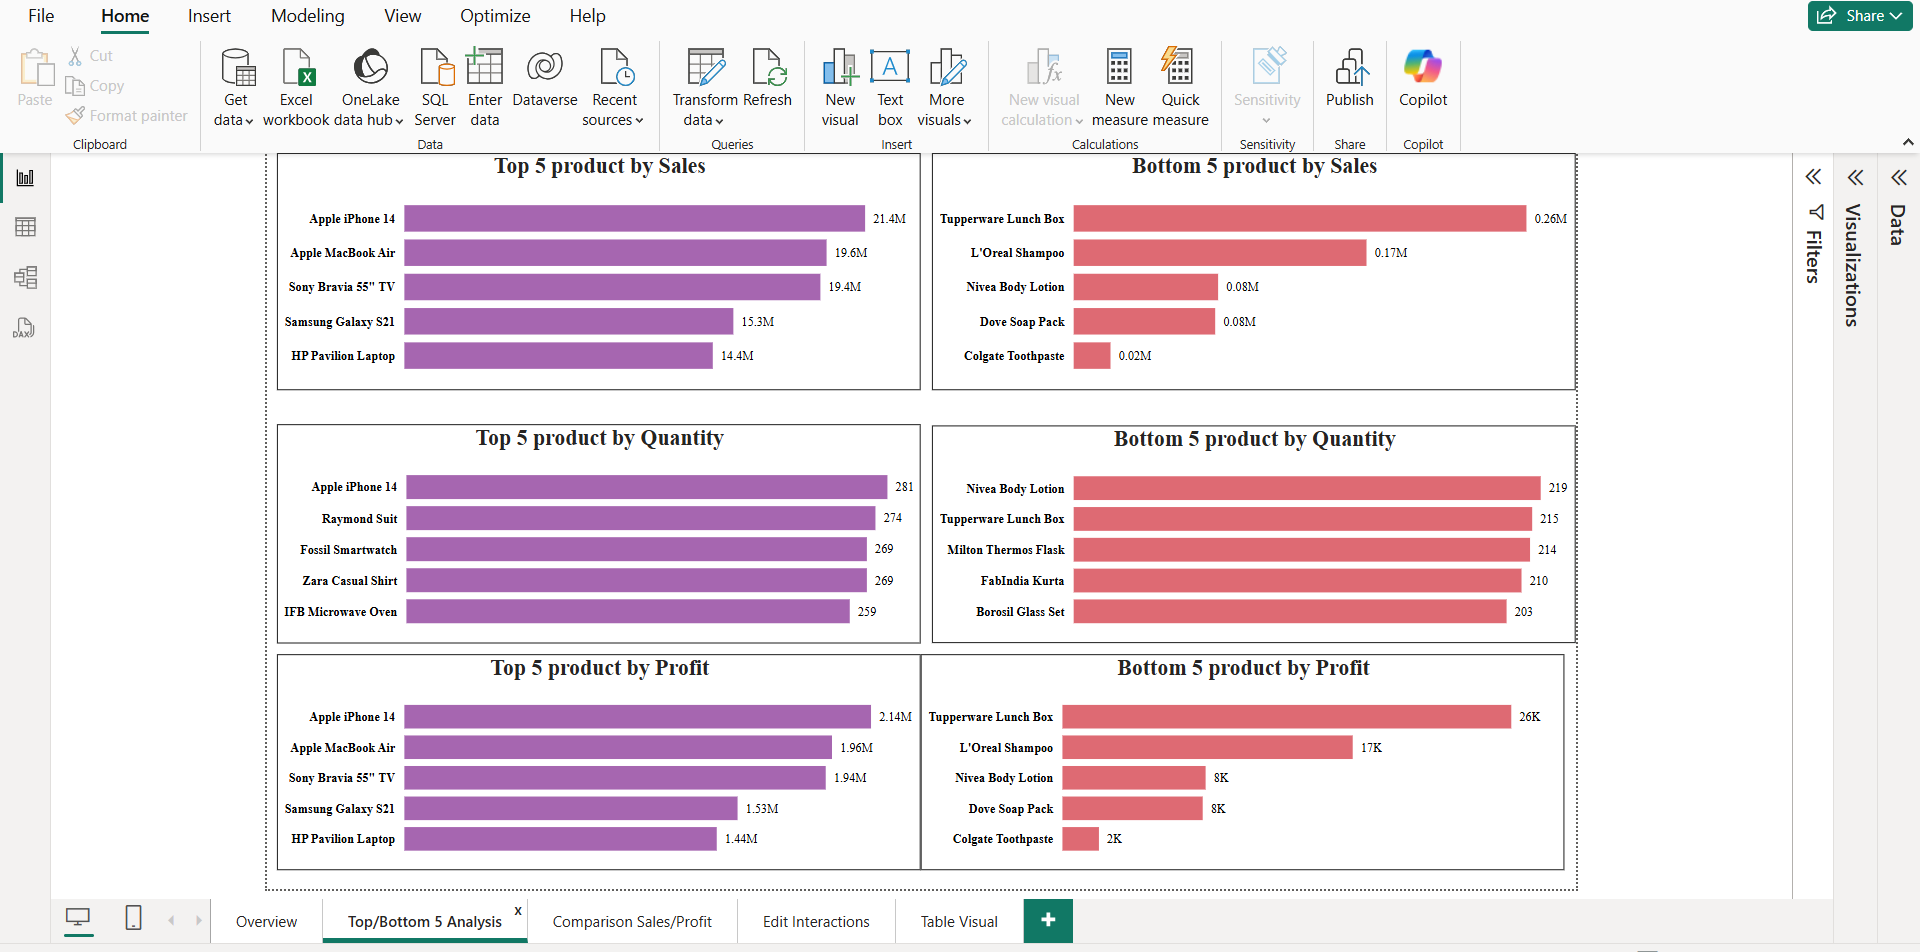

What the dashboard file says about the page in this screenshot:
{"tool":"powerbi","page":{"name":"Top/Bottom 5 Analysis","canvas":[1280,720],"ordinal":1},"visuals":[{"type":"barChart","title":" Top 5 product by Sales","fields":{"Category":["Dim Product.Product Name"],"Y":["Sum(Fact Table.Net Sales  )"]},"box":[9.6,0,629.8,231.9],"z":0},{"type":"barChart","title":"Bottom 5 product by Sales","fields":{"Category":["Dim Product.Product Name"],"Y":["Sum(Fact Table.Net Sales  )"]},"box":[650.4,0,629.8,231.9],"z":1000},{"type":"barChart","title":" Top 5 product by Quantity","fields":{"Category":["Dim Product.Product Name"],"Y":["Sum(Fact Table.Units Sold)"]},"box":[9.6,264.8,629.8,214.1],"z":2000},{"type":"barChart","title":" Bottom 5 product by Quantity","fields":{"Category":["Dim Product.Product Name"],"Y":["Sum(Fact Table.Units Sold)"]},"box":[650.4,266.2,629.8,212.7],"z":3000},{"type":"barChart","title":" Top 5 product by Profit","fields":{"Category":["Dim Product.Product Name"],"Y":["Sum(Fact Table.Profit)"]},"box":[9.6,489.9,629.8,211.3],"z":4000},{"type":"barChart","title":" Bottom 5 product by Profit","fields":{"Category":["Dim Product.Product Name"],"Y":["Sum(Fact Table.Profit)"]},"box":[639.5,489.9,629.8,211.3],"z":5000}]}

Visuals, with their boxes on the page's 1280x720 design canvas (x1, y1, x2, y2). These are canvas units, not pixel positions in the 1920x952 screenshot, which may show the page scaled, cropped or inside an application window:
" Top 5 product by Sales" barChart: <region>10, 0, 639, 232</region>
"Bottom 5 product by Sales" barChart: <region>650, 0, 1280, 232</region>
" Top 5 product by Quantity" barChart: <region>10, 265, 639, 479</region>
" Bottom 5 product by Quantity" barChart: <region>650, 266, 1280, 479</region>
" Top 5 product by Profit" barChart: <region>10, 490, 639, 701</region>
" Bottom 5 product by Profit" barChart: <region>640, 490, 1269, 701</region>
